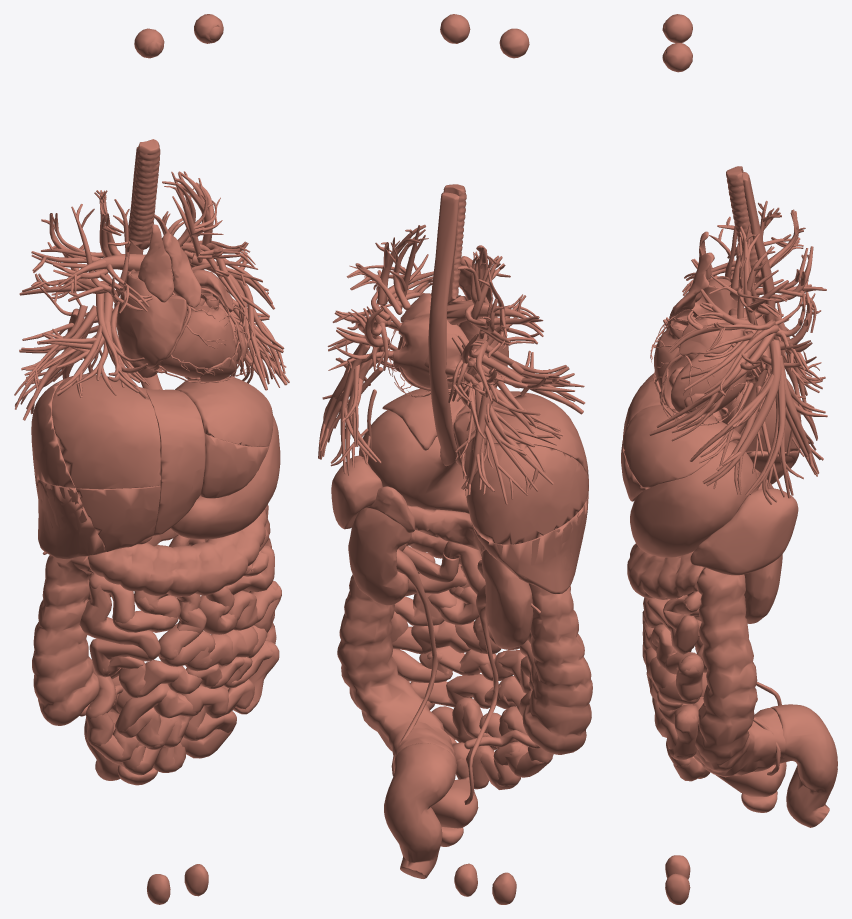
Rendered from organs.glb.
3 views of the same model, side by side, from view 1: azimuth 30°, elevation 25°; view 2: azimuth 150°, elevation 25°; view 3: azimuth 270°, elevation 25° (orthographic).
Visible parts, largest first — view 1: liver, ileum, jejunum, lung-r, heart, ascending-colon, lung-l, transverse-colon, stomach, thymus, trachea, rectum (+5 smaller); view 2: liver, lung-r, ileum, lung-l, descending-colon, ascending-colon, jejunum, rectum, stomach, esophagus, heart, kidney-l (+16 smaller); view 3: lung-l, descending-colon, liver, stomach, heart, spleen, jejunum, rectum, lung-r, ileum, transverse-colon, kidney-l (+9 smaller).
Part boxes in pixels (x1,y1,x2,y2): liver: (31, 374, 273, 559); ileum: (86, 638, 279, 775); jejunum: (79, 528, 281, 671); lung-r: (14, 190, 152, 554); heart: (114, 267, 256, 383); ascending-colon: (32, 555, 99, 725); lung-l: (154, 171, 289, 390); transverse-colon: (88, 505, 267, 596); stomach: (170, 415, 280, 539); thymus: (138, 224, 201, 307); trachea: (128, 139, 160, 250); rectum: (84, 668, 120, 780); liver: (382, 388, 588, 594); lung-r: (446, 247, 585, 613); ileum: (392, 640, 553, 789); lung-l: (318, 224, 433, 475); descending-colon: (337, 544, 457, 772); ascending-colon: (522, 583, 592, 754); jejunum: (390, 546, 531, 653); rectum: (384, 743, 456, 878); stomach: (359, 410, 469, 513); esophagus: (428, 192, 459, 466); heart: (388, 293, 508, 408); kidney-l: (348, 508, 411, 605); lung-l: (649, 224, 827, 504); descending-colon: (693, 567, 785, 777); liver: (621, 365, 801, 501); stomach: (630, 441, 758, 557); heart: (650, 276, 770, 425); spleen: (690, 488, 798, 575); jejunum: (642, 591, 703, 704); rectum: (770, 704, 837, 827); lung-r: (654, 200, 826, 414); ileum: (646, 608, 710, 781); transverse-colon: (627, 543, 704, 599); kidney-l: (744, 554, 782, 623).
Size of the model in its own units: 0.2522 by 0.8414 by 0.191.
